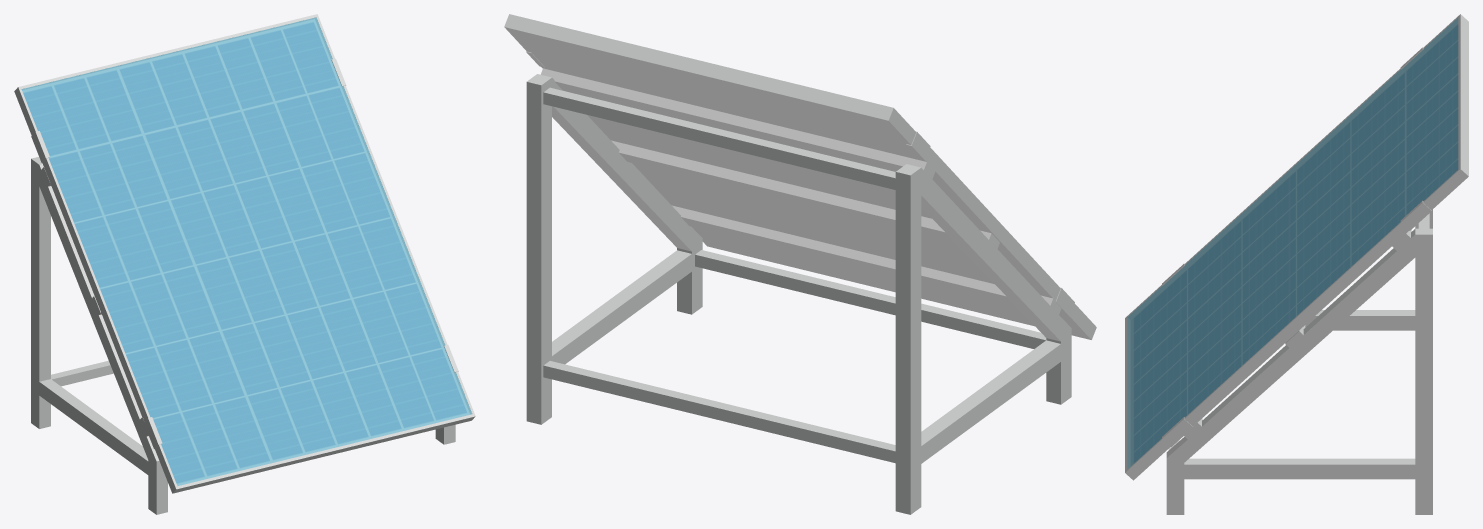
3 views of the same model, side by side, from view 1: azimuth 30°, elevation 25°; view 2: azimuth 150°, elevation 25°; view 3: azimuth 270°, elevation 25° (orthographic). The views are drawn at different scales.
Parts seen in each view (by area): view 1: frame, glass; view 2: frame; view 3: frame, glass.
Boxes of the visible parts, left/top/right/bottom form: frame: left=14, top=14, right=475, bottom=514; glass: left=21, top=17, right=471, bottom=485; frame: left=504, top=14, right=1096, bottom=514; frame: left=1125, top=14, right=1468, bottom=514; glass: left=1127, top=17, right=1458, bottom=469.
Size of the model in its own units: 1.2 by 1.25 by 1.12.
2 materials, 2 textured.
